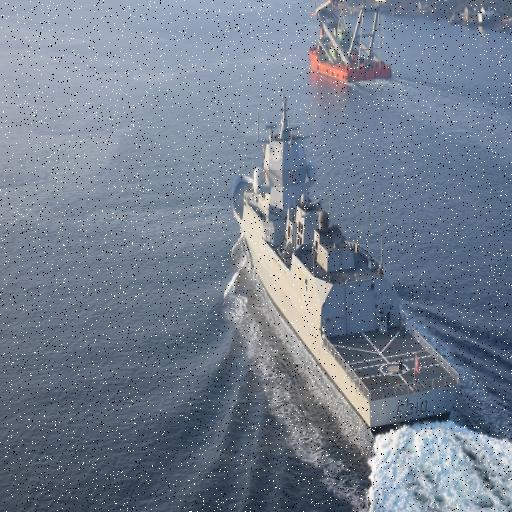Fragata: (231, 81, 465, 434)
